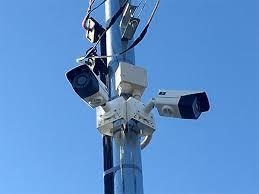tutu: (64, 60, 116, 118), (151, 85, 212, 123)
